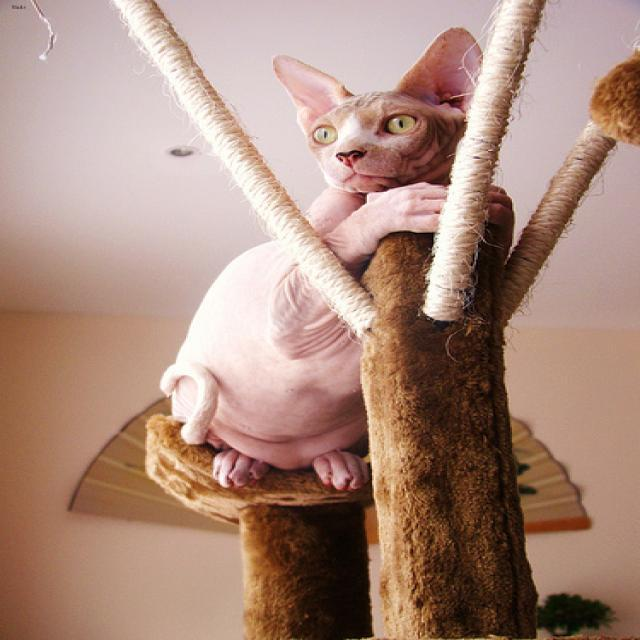Sphynx: (269, 24, 497, 198)
